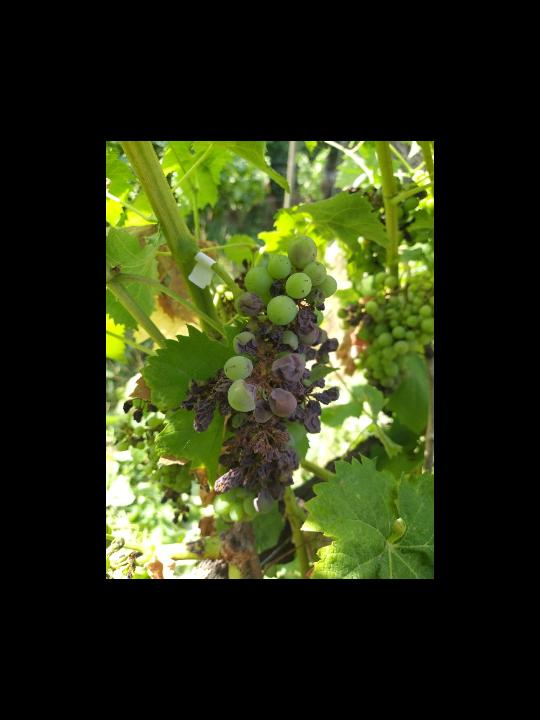grape: (179, 235, 343, 526)
